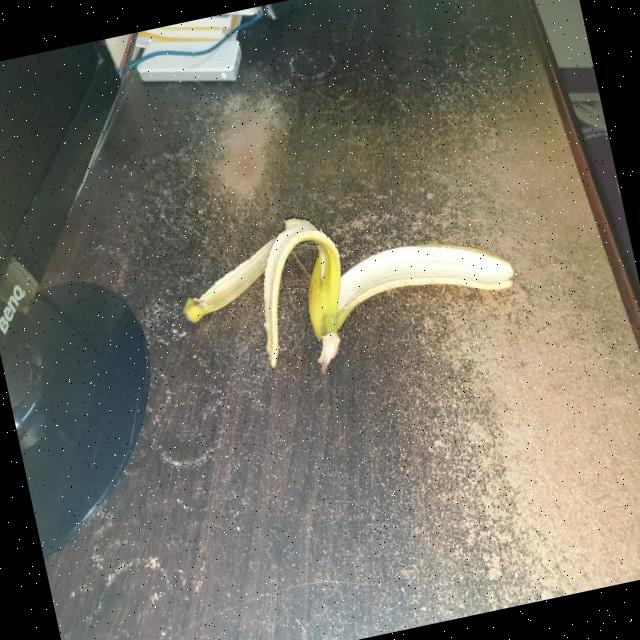banana-peel: (168, 173, 526, 399)
